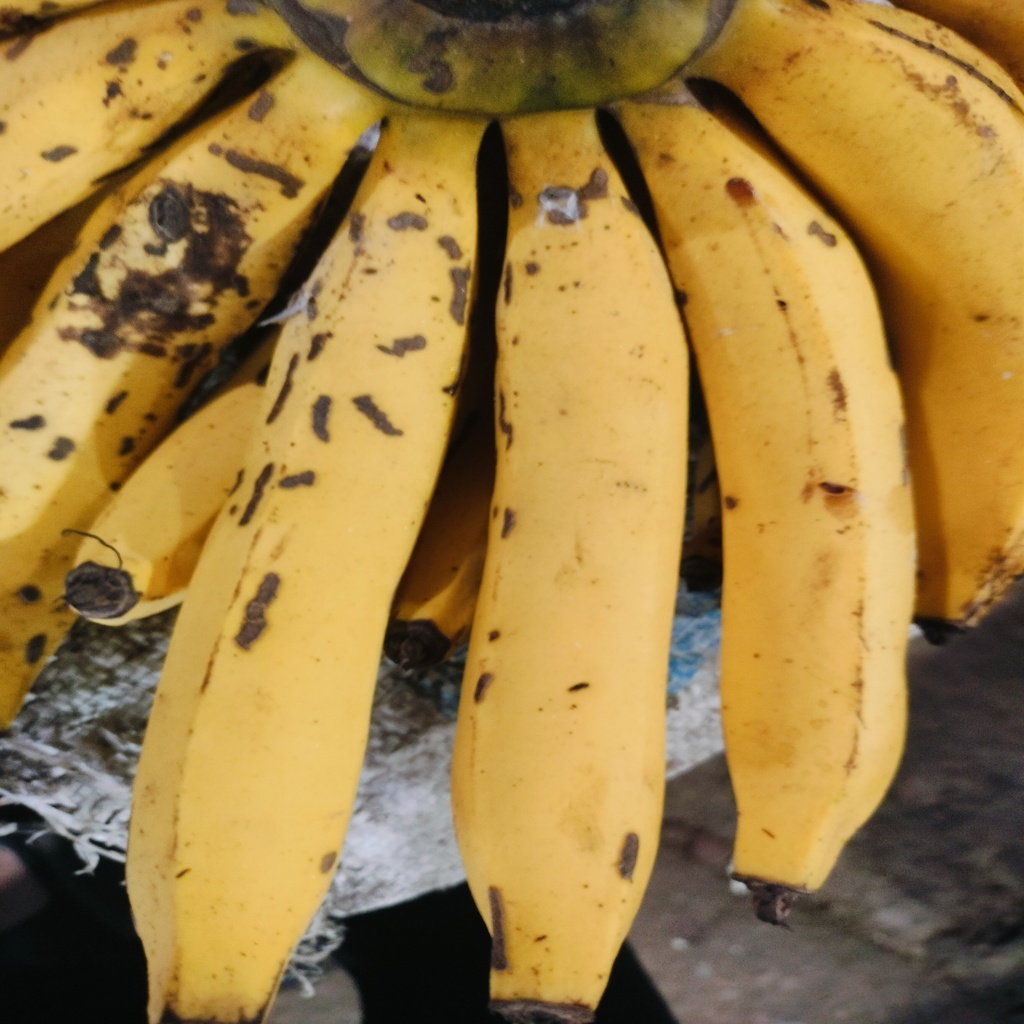unhealthy: (122, 130, 482, 1017), (448, 145, 688, 1015), (639, 145, 913, 895)
